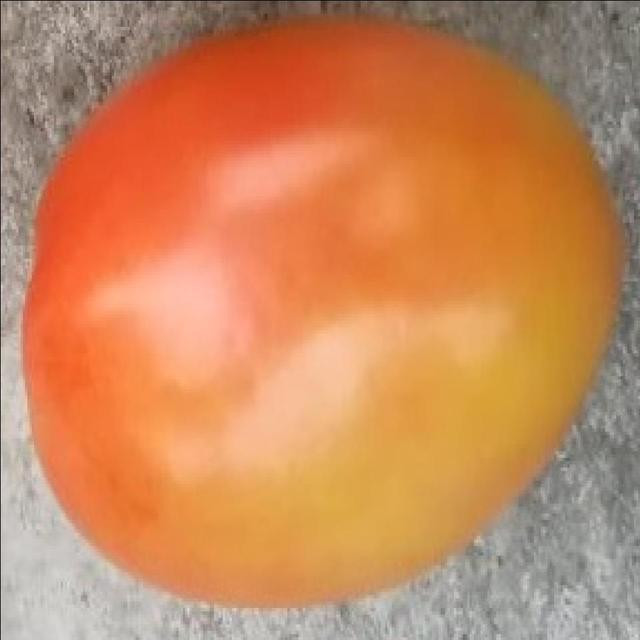Spotted wilt Virus Fruit: (113, 3, 249, 27)
